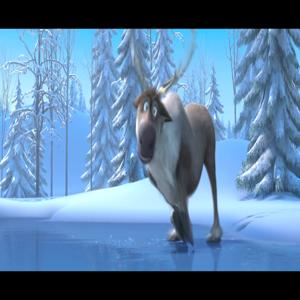sven: (129, 37, 234, 239)
